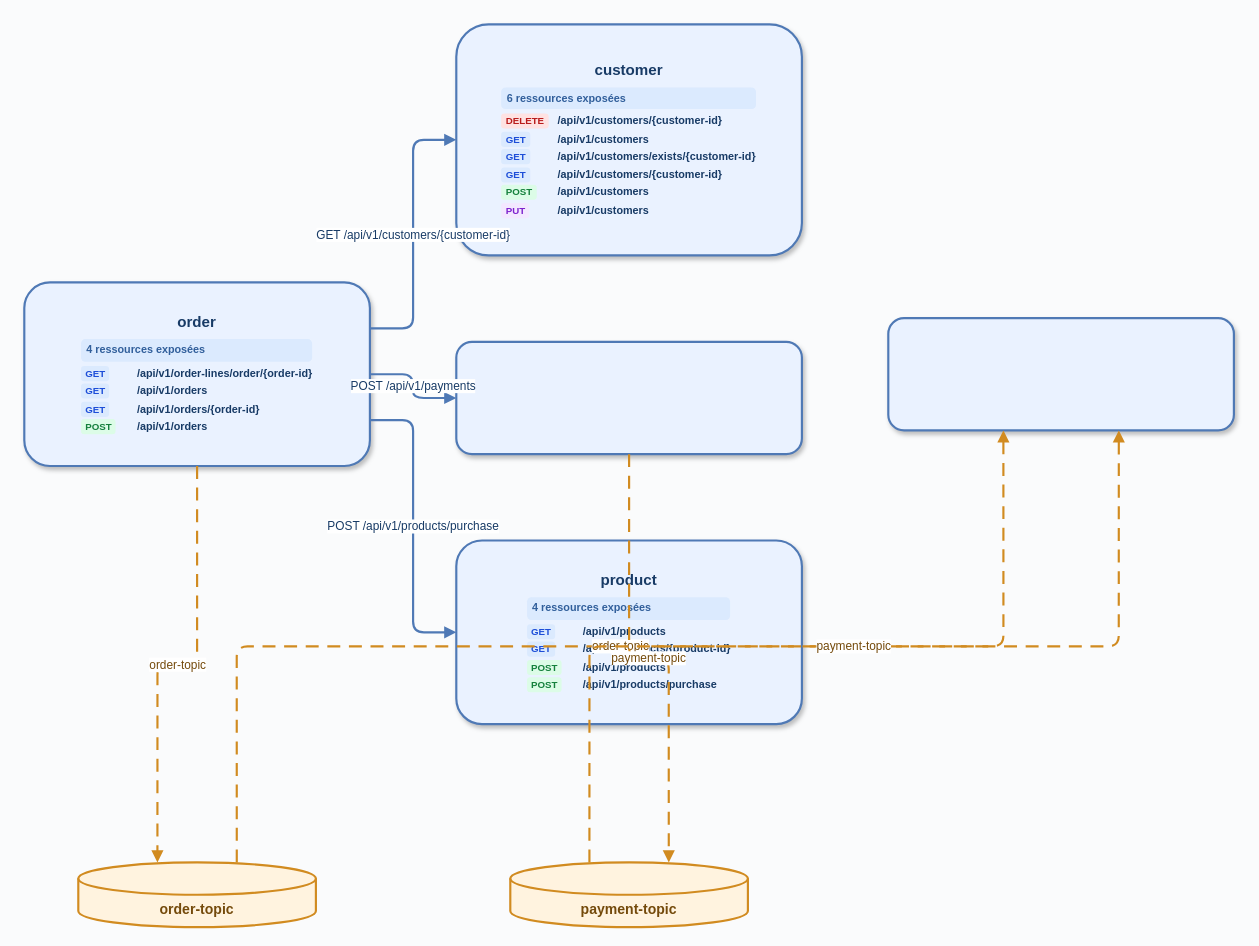
The diagram is 1259 pixels wide and 946 high, and some of its shapes have lost their labels. Each missing label, with the centre of its shape:
notification Aucune ressource exposée Aucune ressource HTTP détectée: the point at 1061,375
payment 1 ressource exposée POST /api/v1/payments: the point at 629,399
